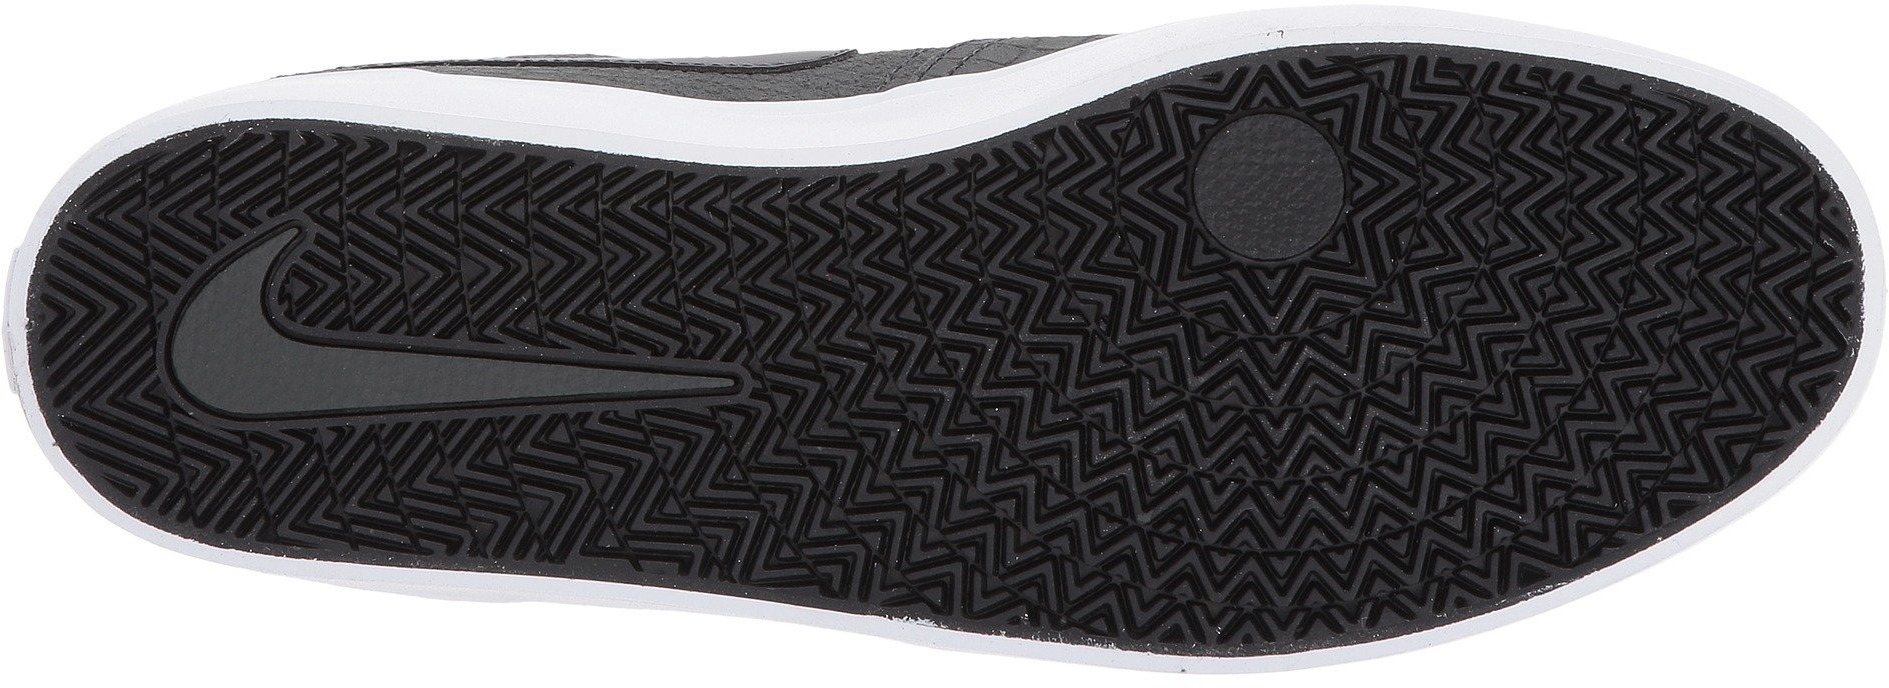chevron: (771, 222, 1077, 494), (1084, 275, 1375, 549), (1377, 92, 1661, 359), (1378, 365, 1610, 577), (1669, 211, 1855, 392), (400, 153, 582, 334), (495, 416, 666, 574), (276, 429, 383, 541)
circle: (1172, 100, 1364, 258)
